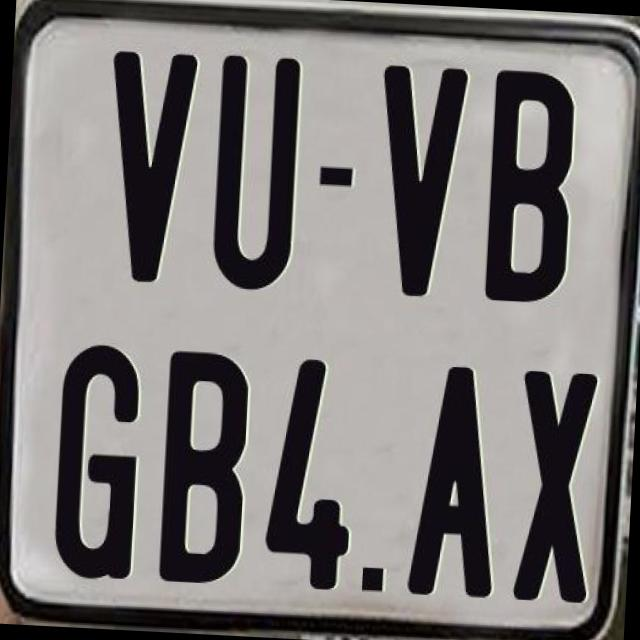4: (261, 358, 363, 599)
A: (407, 366, 511, 604)
B: (154, 348, 254, 590), (483, 70, 583, 304)
G: (50, 343, 142, 588)
U: (207, 51, 300, 292)
V: (372, 61, 471, 302), (102, 46, 200, 288)
X: (509, 369, 596, 605)
